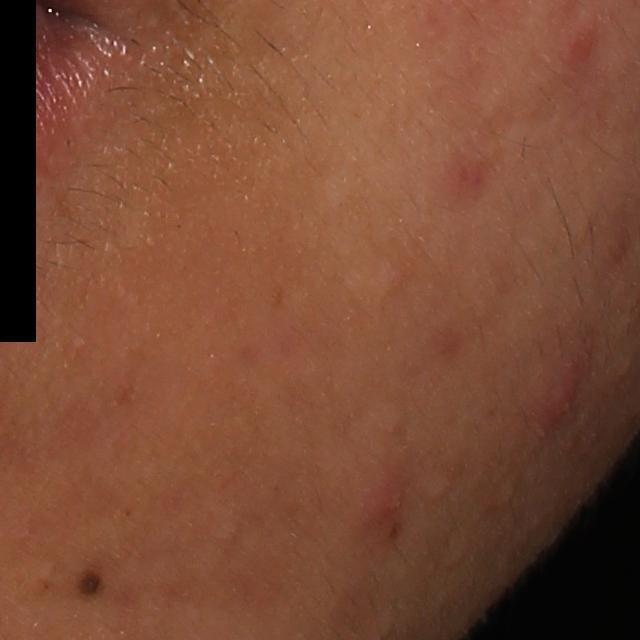nevus: (72, 567, 104, 601)
papule: (361, 473, 414, 532), (565, 28, 598, 69)
